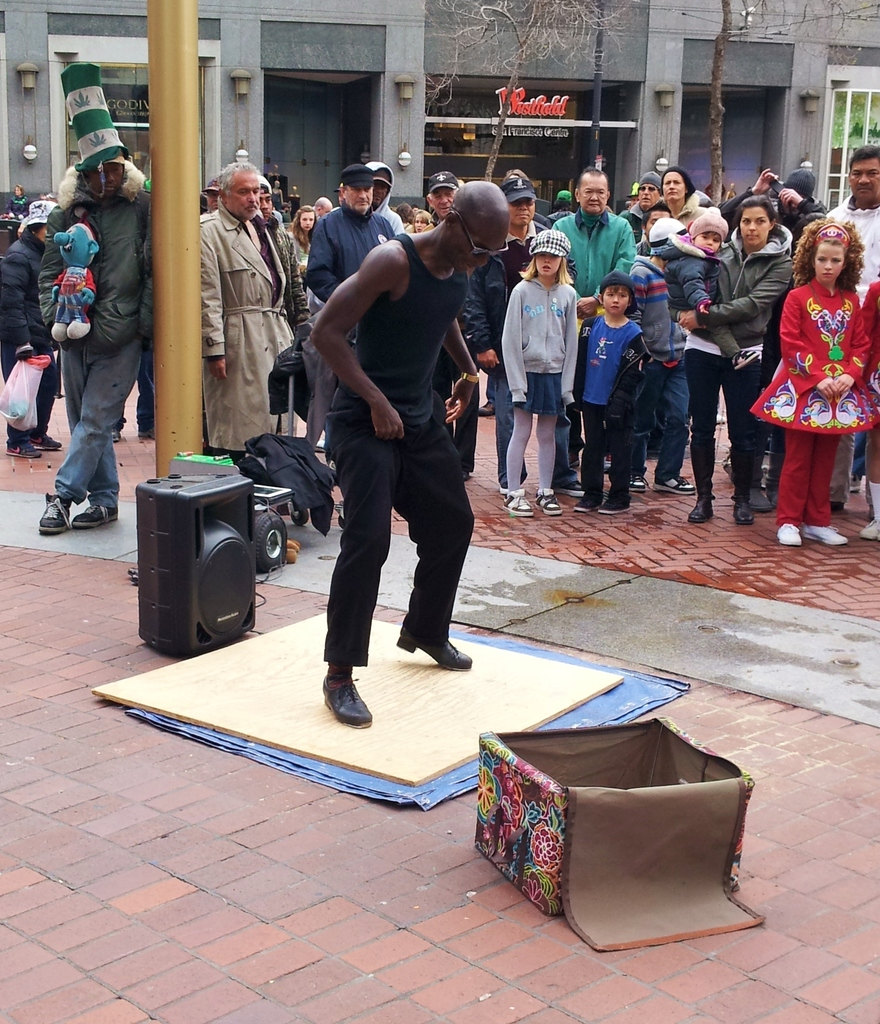Person: (0, 61, 880, 728)
